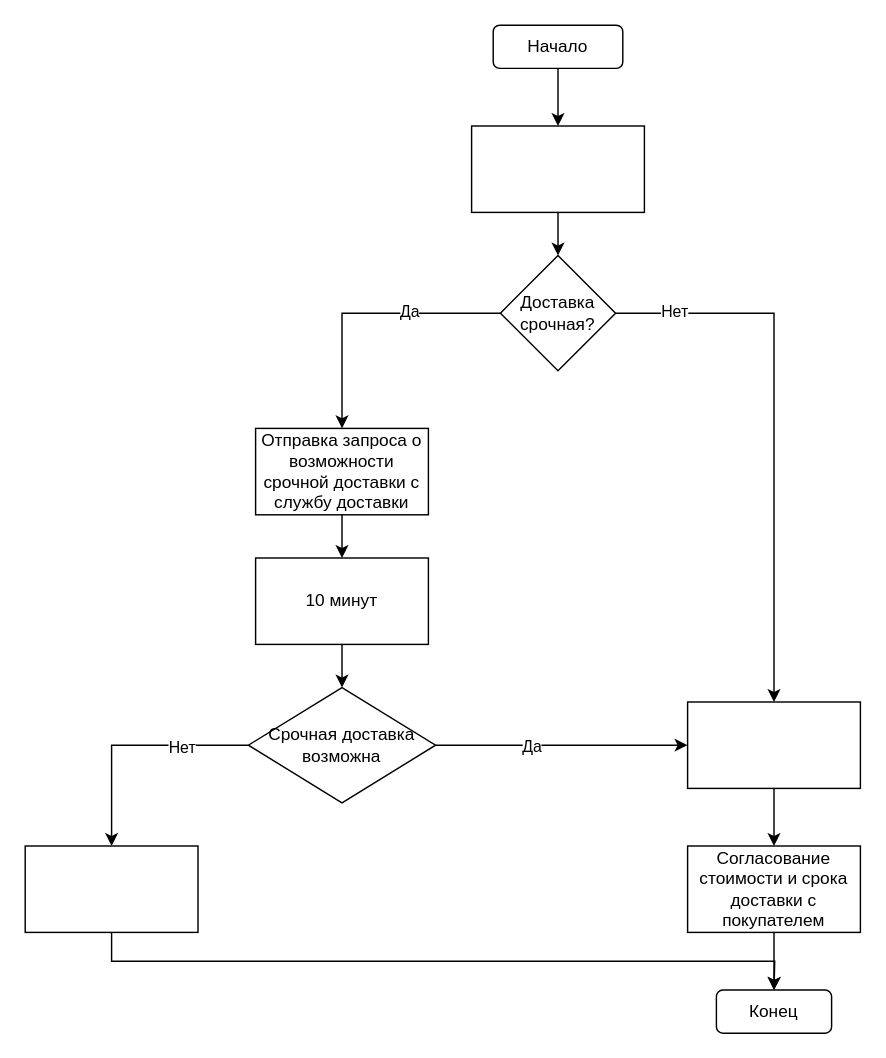
This 886x1058 diagram has some shape labels left out. The shapes that lost their labels are listed below. From the top down, each one's centre as x and y in pixels, then its label:
At pixel 557 168: "Поступила заявка от покупателя на доставку заказа".
At pixel 773 744: "Определение стоимости доставки".
At pixel 111 888: "Сообщение покупателю о невозможности срочной доставки".
